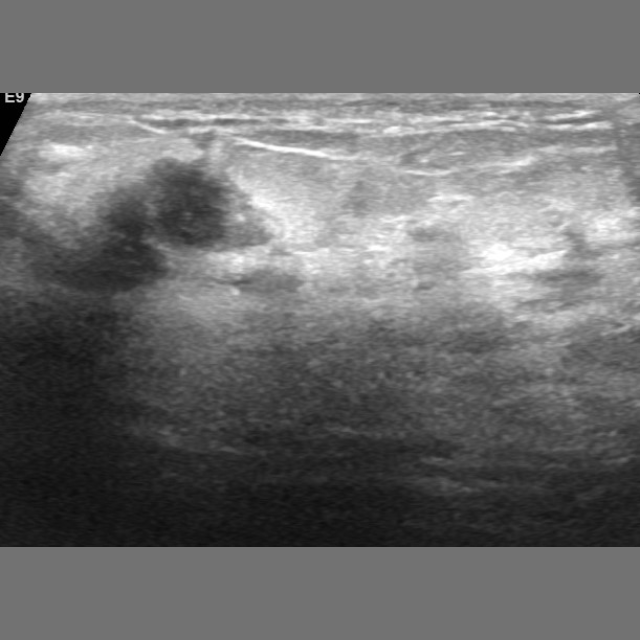cancer: (69, 166, 281, 325)
